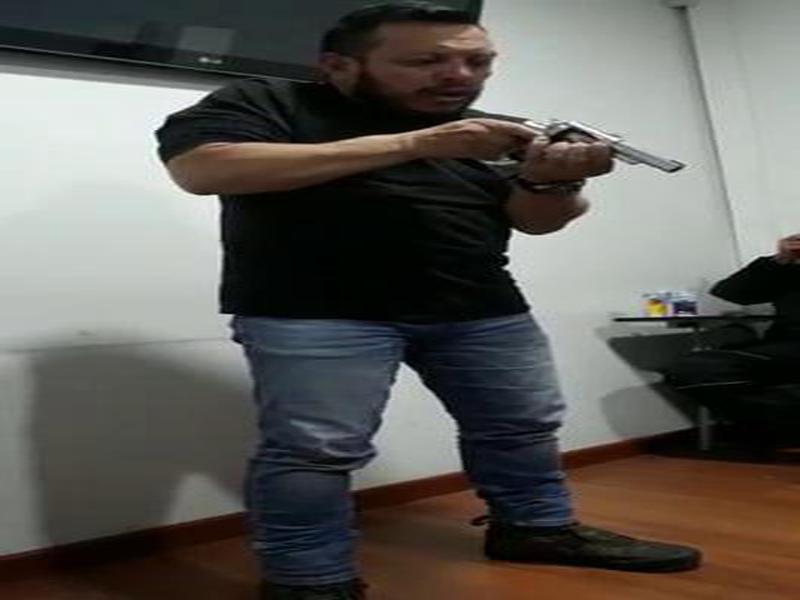Revolver: (474, 106, 705, 217)
